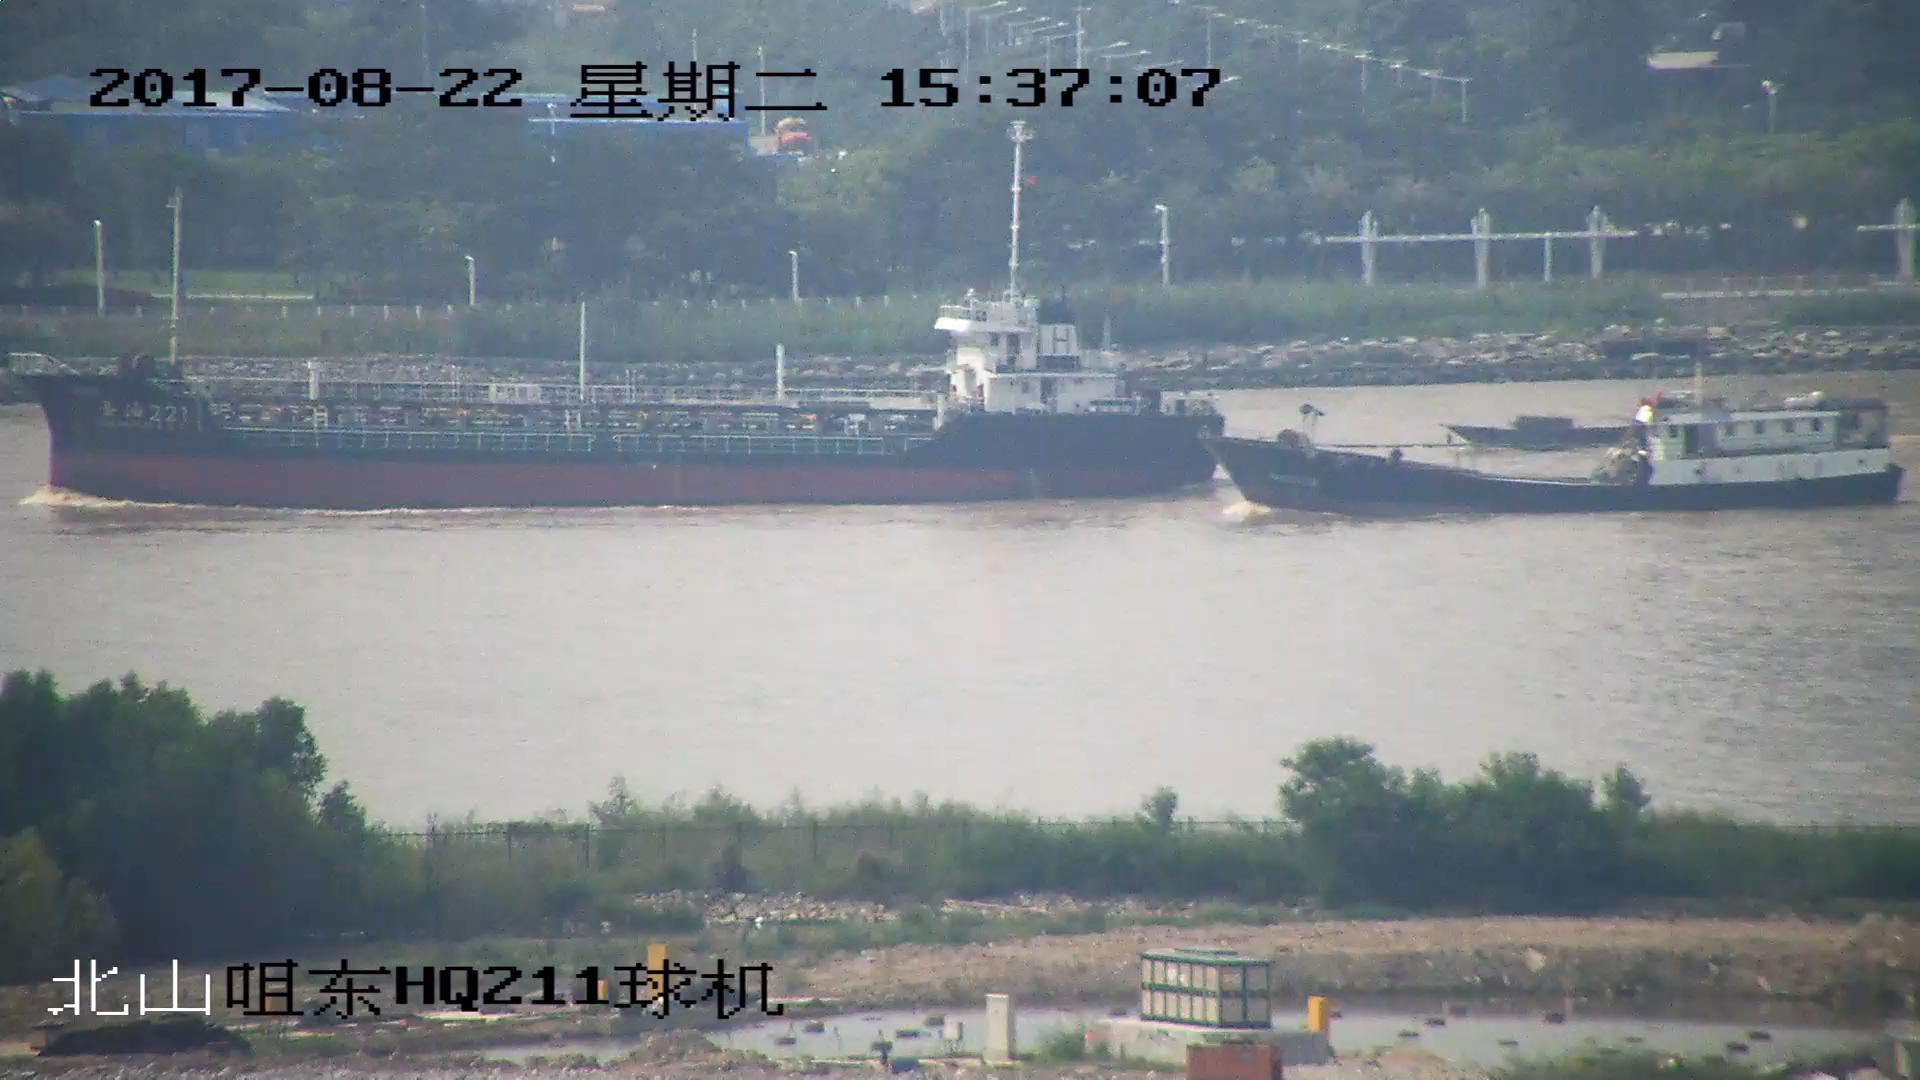Ship: (13, 119, 1234, 509), (1203, 371, 1900, 516), (1447, 413, 1629, 454)
